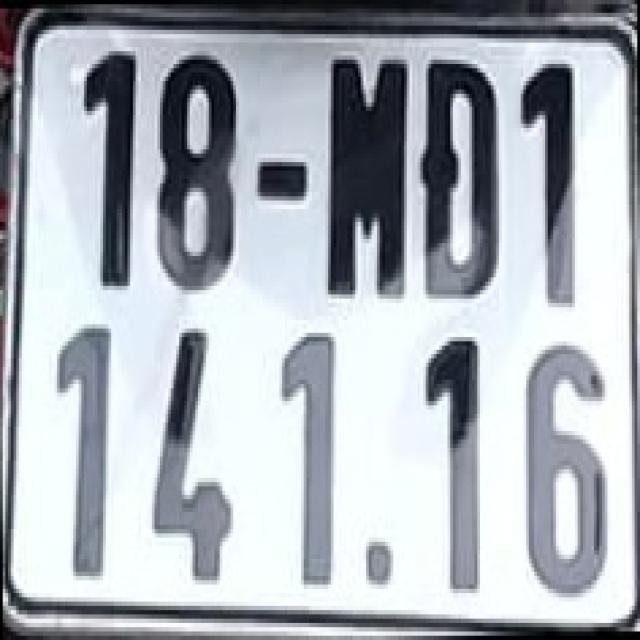1: (50, 318, 121, 578), (419, 331, 489, 591), (275, 328, 346, 584), (516, 56, 584, 307), (78, 41, 146, 288)
4: (148, 322, 240, 587)
6: (521, 333, 610, 597)
8: (153, 43, 240, 294)
D: (419, 55, 503, 303)
M: (323, 47, 412, 303)
